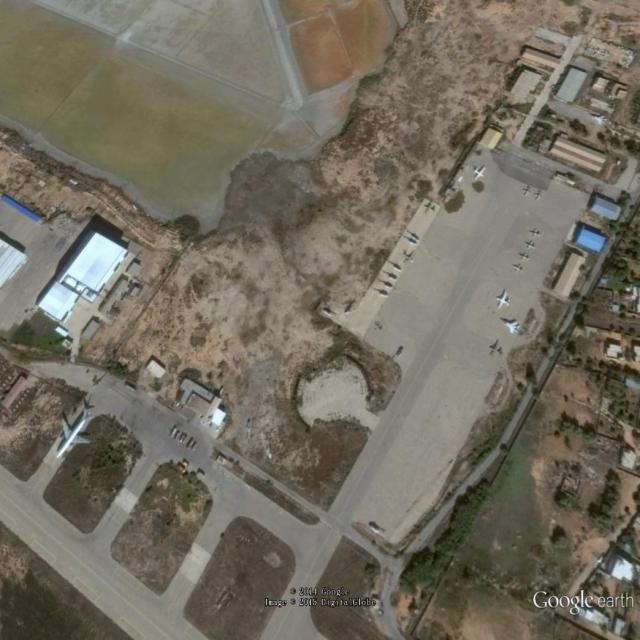aircraft: (55, 406, 99, 464), (503, 317, 523, 339), (494, 288, 512, 311), (488, 340, 506, 360), (400, 249, 418, 266), (471, 164, 488, 181), (590, 112, 609, 127), (424, 200, 439, 215), (529, 227, 543, 242), (519, 250, 534, 263), (525, 238, 538, 252), (514, 260, 525, 276), (522, 186, 533, 198), (532, 189, 543, 200)
